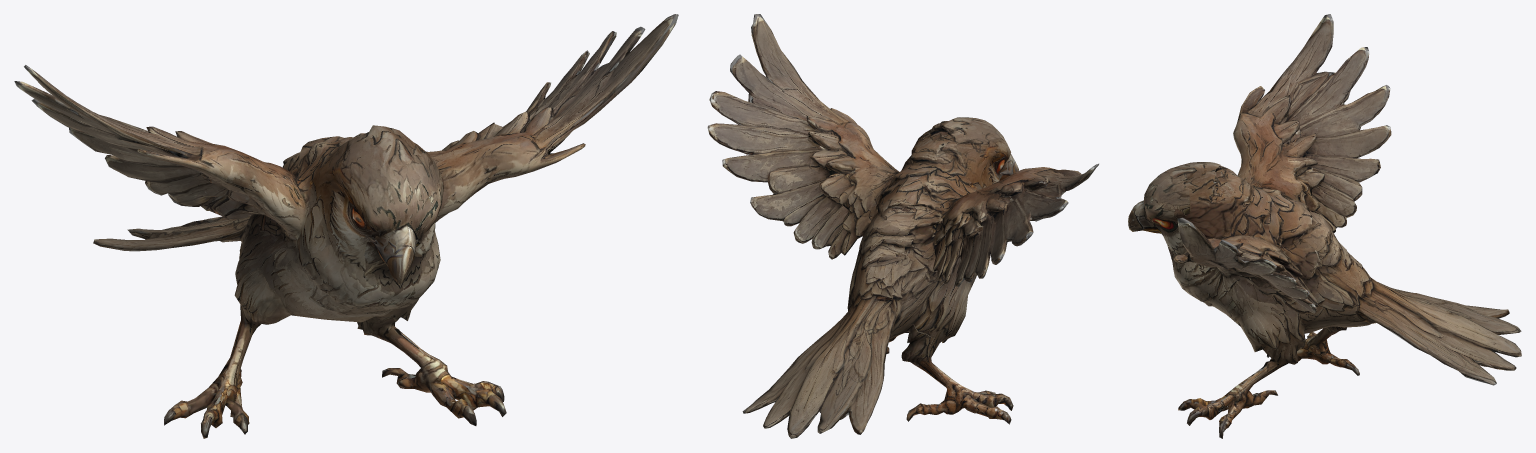
Rendered from Sparrow.glb.
3 renders of one model, left to right at view 1: azimuth 30°, elevation 25°; view 2: azimuth 150°, elevation 25°; view 3: azimuth 270°, elevation 25°, orthographic. The views are drawn at different scales.
Visible parts, largest first — view 1: texture_mapping; view 2: texture_mapping; view 3: texture_mapping.
Boxes of the visible parts, bbox=[...] form: texture_mapping: bbox=[14, 14, 678, 438]; texture_mapping: bbox=[707, 14, 1098, 438]; texture_mapping: bbox=[1128, 14, 1521, 438].
Bounding box in the file's own units: 1.02 × 0.674 × 0.8507.
1 material, 1 textured.
